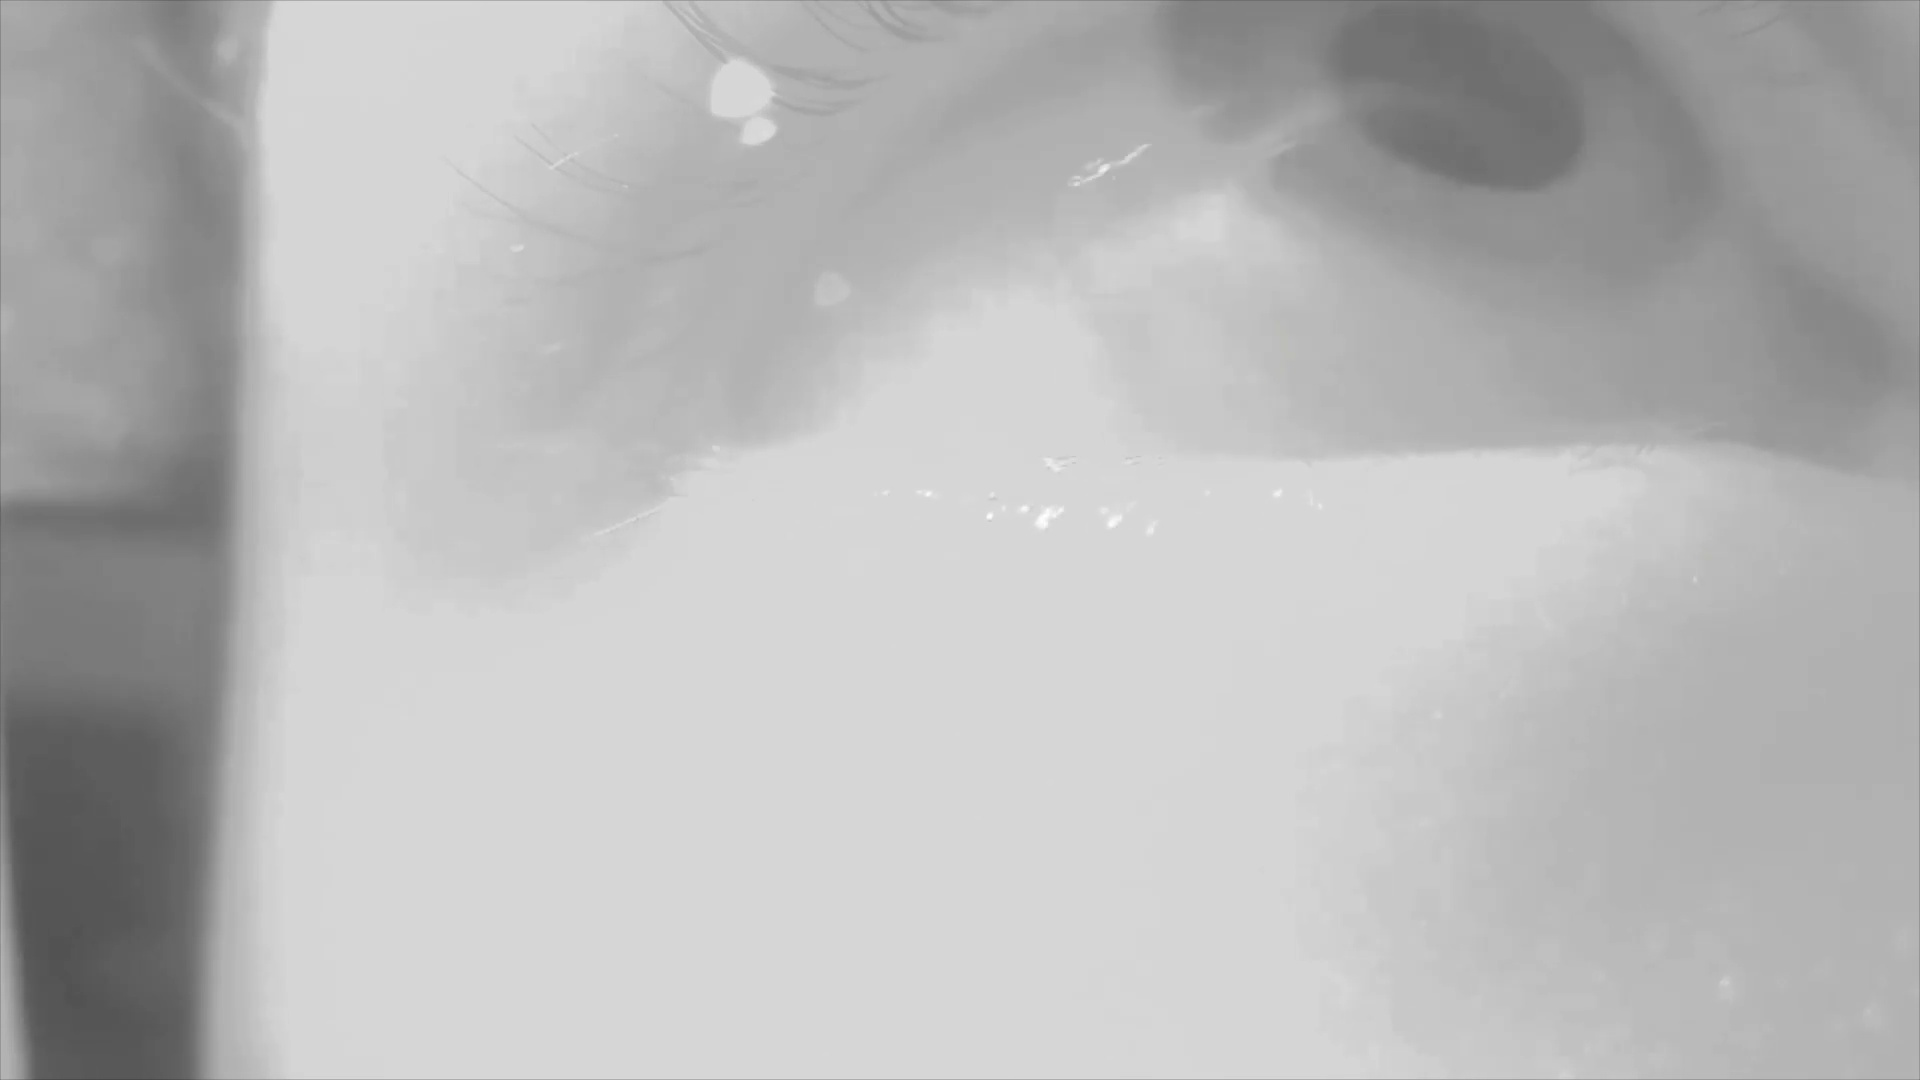pupil: (1329, 7, 1586, 196)
